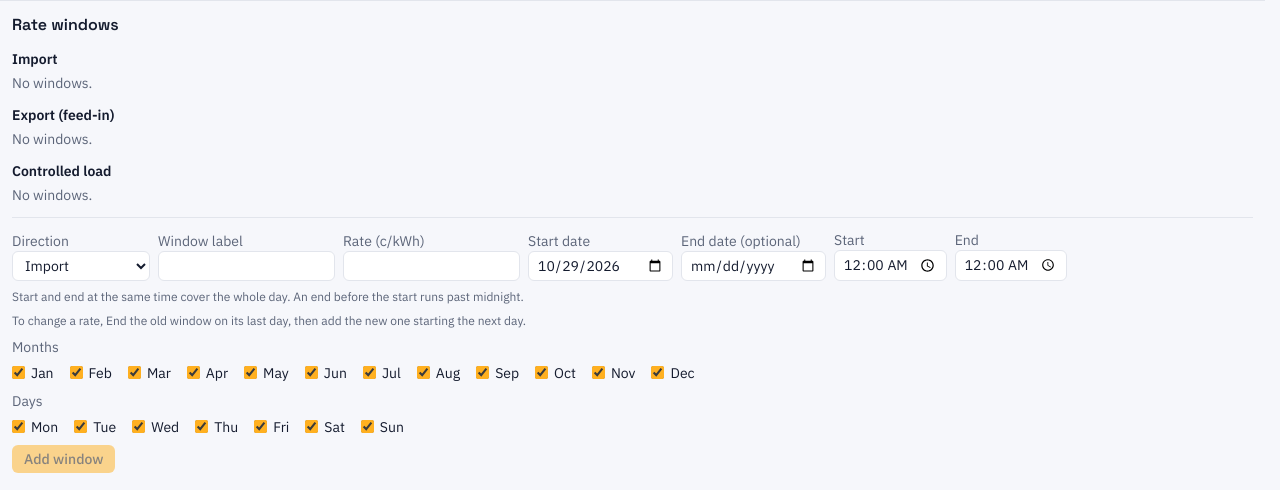
Test case: RateWindowsPanel › adds a flat import window with sensible defaults
Expected: the heading "Import" is shown, [12, 50, 57, 68]
Type "Flat" into the field labelled "Window label" at (246, 266), box [158, 251, 335, 281]
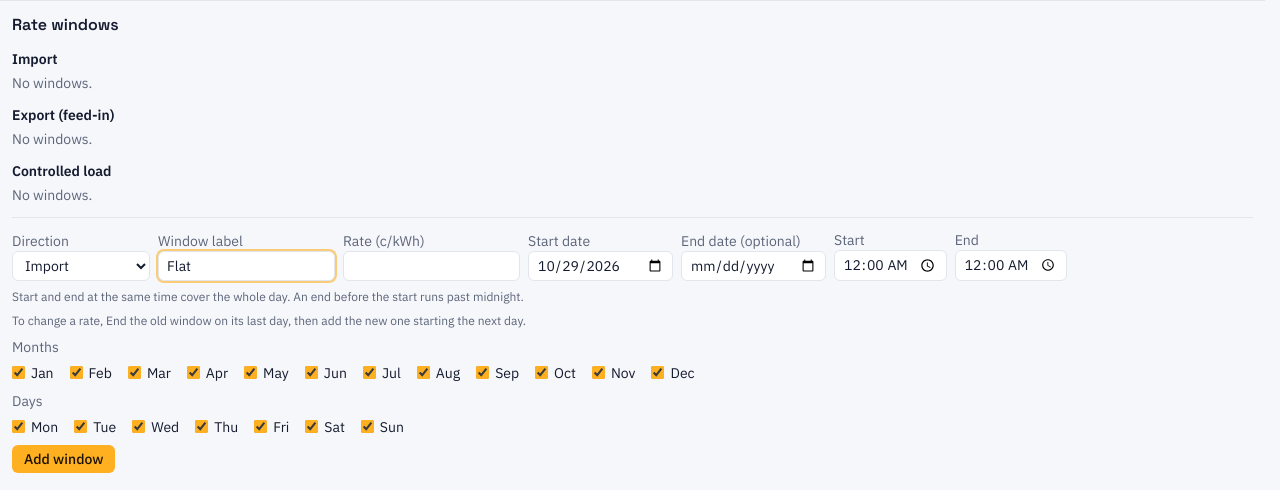
Type "32.5" into the number field labelled "Rate (c/kWh)" at (432, 266), box [343, 251, 520, 281]
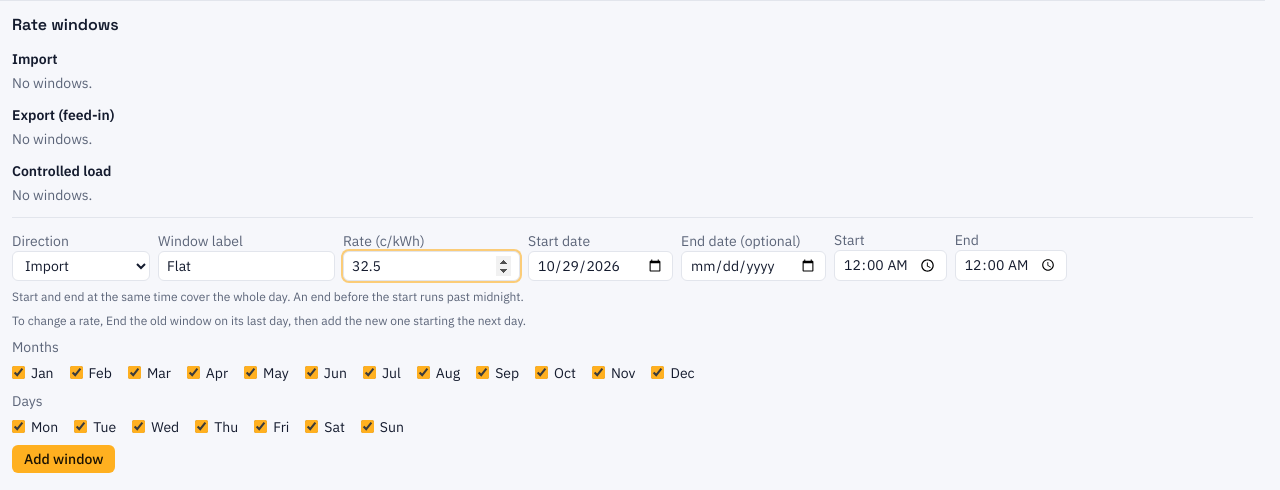
Click the button "Add window" at (64, 459), box [12, 445, 115, 473]
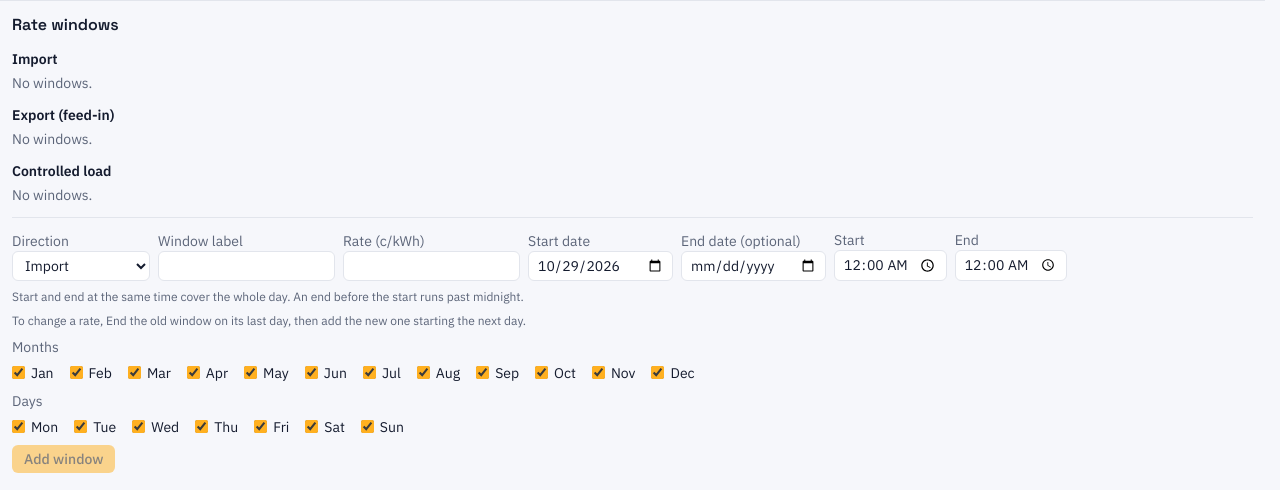
Expected: the field labelled "Window label" is empty, [158, 251, 335, 281]
Expected: the number field labelled "Rate (c/kWh)" is not empty, [343, 251, 520, 281]
